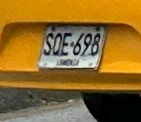number plate: (39, 25, 105, 68)
